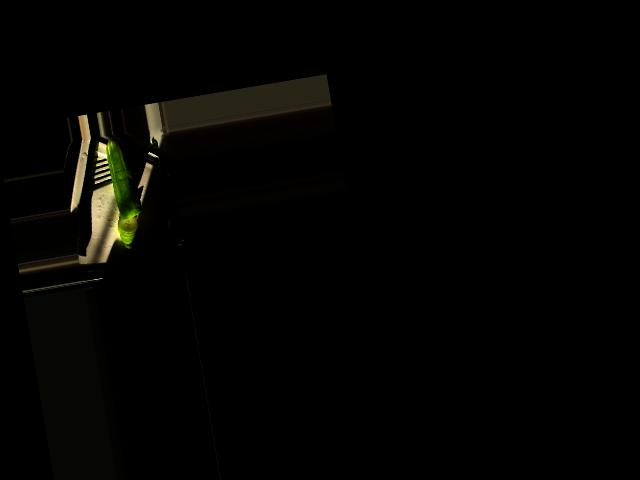cucumber: (103, 134, 142, 221)
